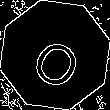O_NE: (24, 22, 86, 88)
